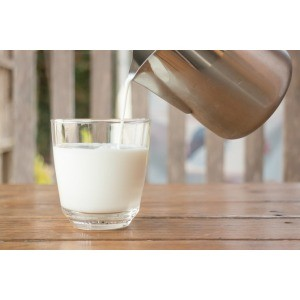milk_brain food: (53, 142, 147, 226)
